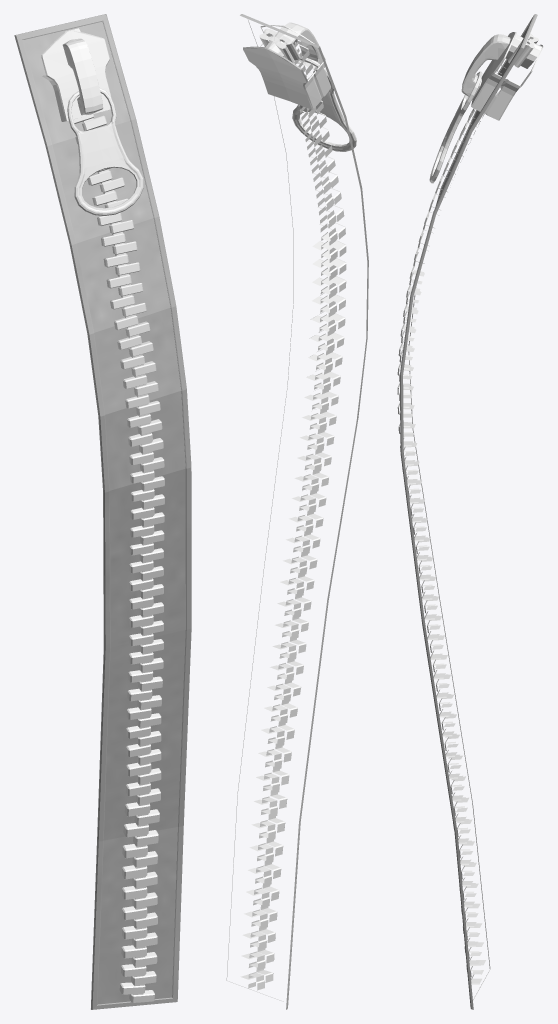
The model's file is Pocket_Right_V2.glb.
3 renders of one model, left to right at view 1: azimuth 30°, elevation 25°; view 2: azimuth 150°, elevation 25°; view 3: azimuth 270°, elevation 25°, orthographic. The views are drawn at different scales.
Parts seen in each view (by area): view 1: Pocket_Right_V21, Ziplock_Right1, Rope1; view 2: Ziplock_Right1, Rope1; view 3: Ziplock_Right1, Rope1, Pocket_Right_V21.
Part boxes in pixels (box(x1,y1,x2,y2)): Pocket_Right_V21: box(23, 21, 185, 1004); Ziplock_Right1: box(41, 28, 164, 1002); Rope1: box(14, 14, 191, 1009); Ziplock_Right1: box(240, 22, 356, 990); Rope1: box(226, 14, 368, 1009); Ziplock_Right1: box(397, 32, 543, 984); Rope1: box(399, 14, 537, 1009); Pocket_Right_V21: box(437, 26, 528, 202).
Size of the model in its own units: 0.0313 by 0.2257 by 0.0317.
Materials: 3 (3 with a texture image).
